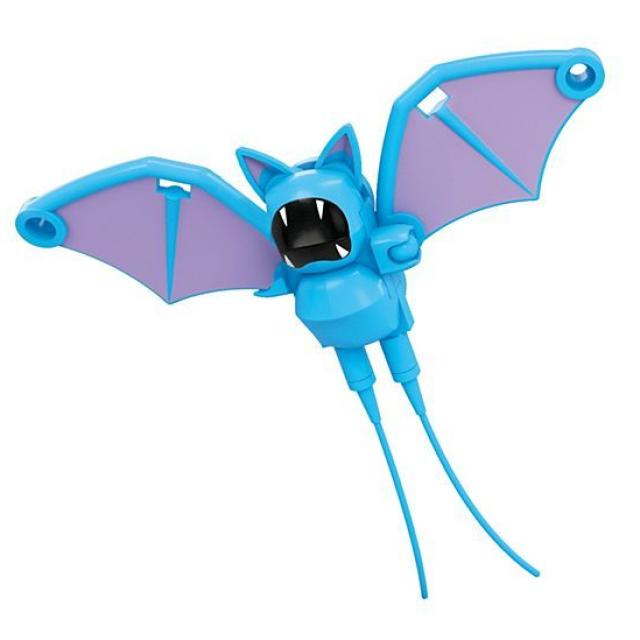Zubat: (130, 77, 540, 434)
